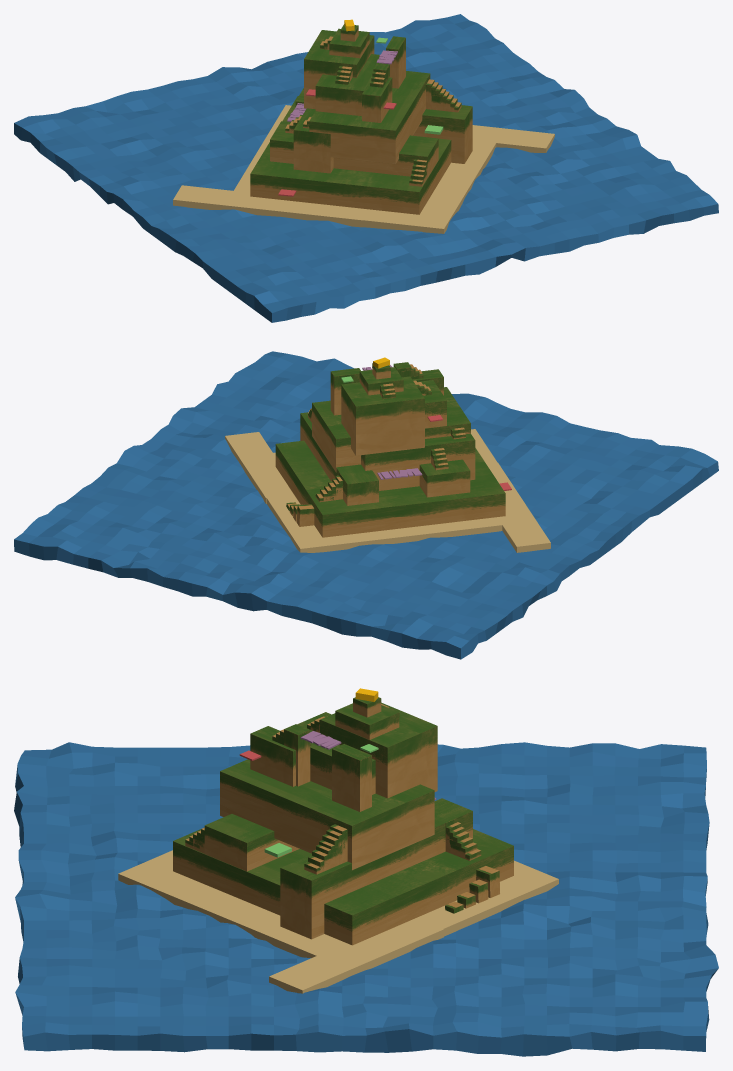
File: mountenTry_V1.fbx
3 views of the same model, one above another, from view 1: azimuth 30°, elevation 25°; view 2: azimuth 150°, elevation 25°; view 3: azimuth 270°, elevation 25° (orthographic). The views are drawn at different scales.
Visible parts, largest first — view 1: Sea, Cube_40, Cube_41, Cube_17, Cube_42, Cube_23, Cube_25, Cube_4_3, Cube_3_4, Cube_19, Cube_43, Cube_15 (+2 smaller); view 2: Sea, Cube_40, Cube_41, Cube_3_4, Cube_19, Cube_17, Cube_43, Cube_25, Cube_23, Cube_42, Cube_4_3, Cube_6 (+1 smaller); view 3: Sea, Cube_40, Cube_17, Cube_41, Cube_25, Cube_3_4, Cube_43, Cube_23, Cube_6, Cube_15, Cube_4_4, Cube_4_3 (+1 smaller).
Part boxes in pixels (x1,y1,x2,y2): Sea: (14, 14, 718, 322); Cube_40: (250, 96, 451, 214); Cube_41: (226, 105, 496, 233); Cube_17: (309, 71, 430, 164); Cube_42: (173, 185, 369, 227); Cube_23: (270, 121, 438, 177); Cube_25: (295, 88, 472, 163); Cube_4_3: (315, 54, 379, 116); Cube_3_4: (304, 30, 374, 109); Cube_19: (293, 108, 333, 173); Cube_43: (472, 125, 554, 152); Cube_15: (362, 77, 392, 122); Sea: (14, 351, 718, 659); Cube_40: (275, 440, 505, 537); Cube_41: (254, 429, 535, 552); Cube_3_4: (341, 376, 424, 455); Cube_19: (361, 433, 475, 490); Cube_17: (312, 387, 470, 472); Cube_43: (225, 432, 293, 503); Cube_25: (300, 412, 378, 505); Cube_23: (419, 459, 470, 497); Cube_42: (486, 463, 550, 552); Cube_4_3: (417, 380, 446, 428); Cube_6: (330, 368, 360, 415); Sea: (14, 742, 718, 1056); Cube_40: (173, 829, 513, 945); Cube_17: (220, 759, 434, 870); Cube_41: (118, 850, 558, 957); Cube_25: (280, 798, 472, 939); Cube_3_4: (320, 702, 437, 798); Cube_43: (269, 918, 443, 993); Cube_23: (204, 814, 299, 871); Cube_6: (332, 744, 371, 811); Cube_15: (250, 726, 311, 786); Cube_4_4: (335, 703, 399, 739); Cube_4_3: (297, 712, 375, 794).
Bounding box in the file's own units: 20454 × 6864 × 20747.
Materials: 8 (2 with a texture image).
